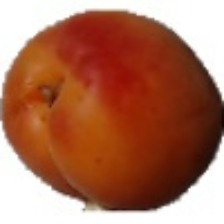apricot: (17, 44, 203, 183)
